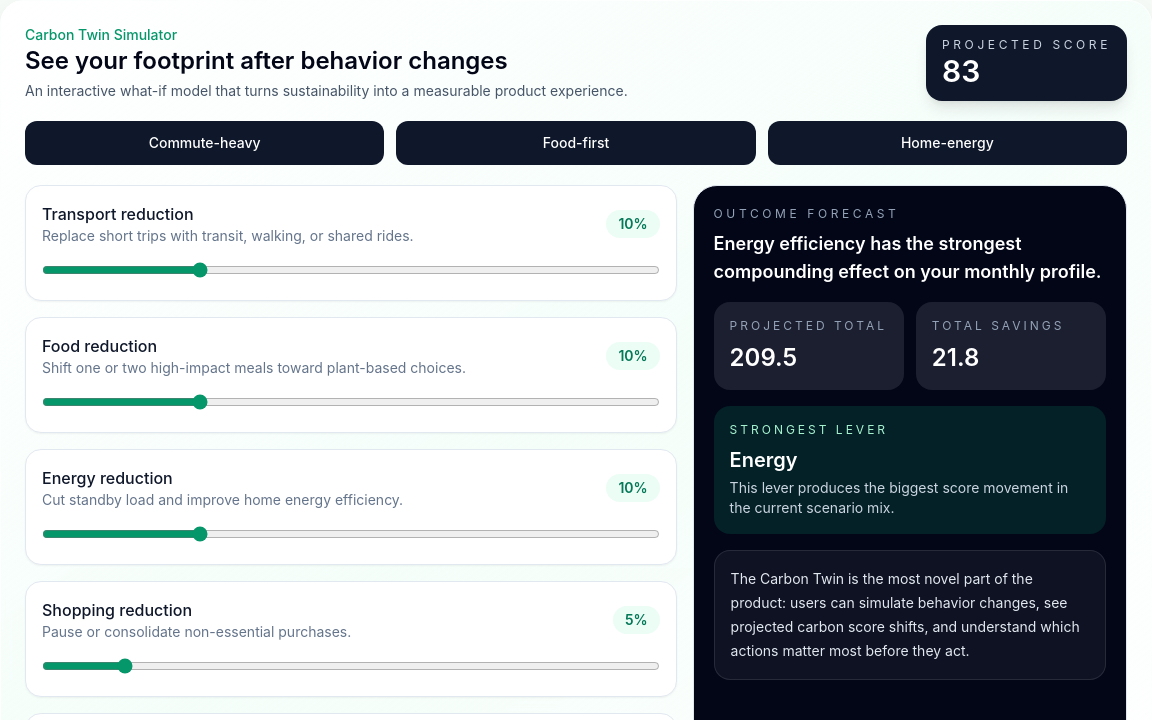
Test: CarbonTwinSimulator › clicking Commute-heavy preset updates slider values
Click the button "Commute-heavy": (205, 143) [25, 121, 384, 165]
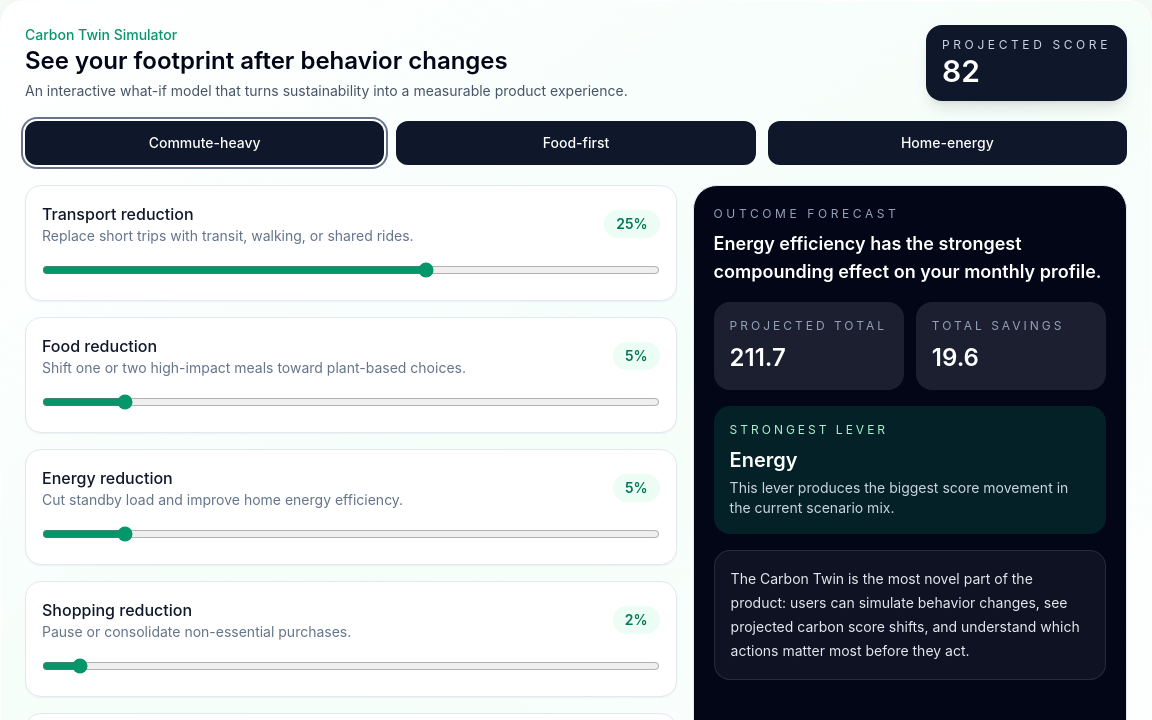
Expected: the slider labelled "Transport reduction" holds "25", [42, 262, 660, 278]
